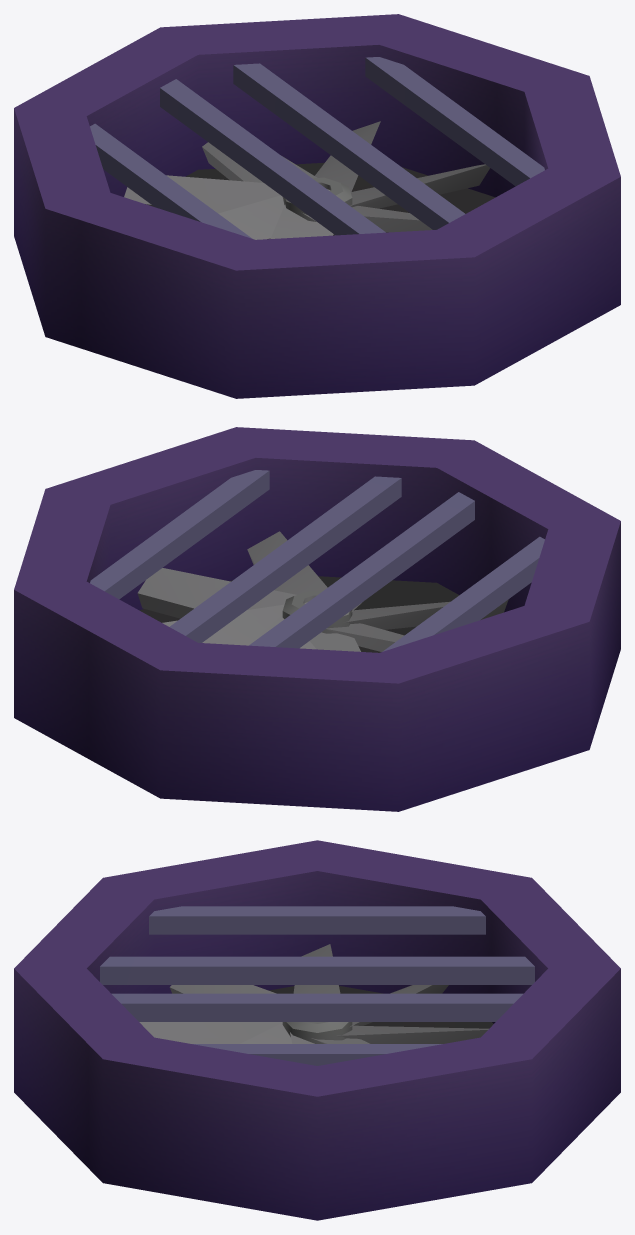
File: Turbine_1_B.glb
3 views of the same model, one above another, from view 1: azimuth 30°, elevation 25°; view 2: azimuth 150°, elevation 25°; view 3: azimuth 270°, elevation 25° (orthographic). The views are drawn at different scales.
Visible parts, largest first — view 1: Turbine_1_B, Turbine_1W; view 2: Turbine_1_B, Turbine_1W; view 3: Turbine_1_B, Turbine_1W.
Part boxes in pixels (<box>): Turbine_1_B: <box>14,14,620,398</box>; Turbine_1W: <box>124,121,489,239</box>; Turbine_1_B: <box>14,427,620,811</box>; Turbine_1W: <box>137,531,508,651</box>; Turbine_1_B: <box>14,840,620,1220</box>; Turbine_1W: <box>139,944,488,1043</box>.
Bounding box in the file's own units: 1.27 × 0.2862 × 1.27.
2 materials, 2 textured.
